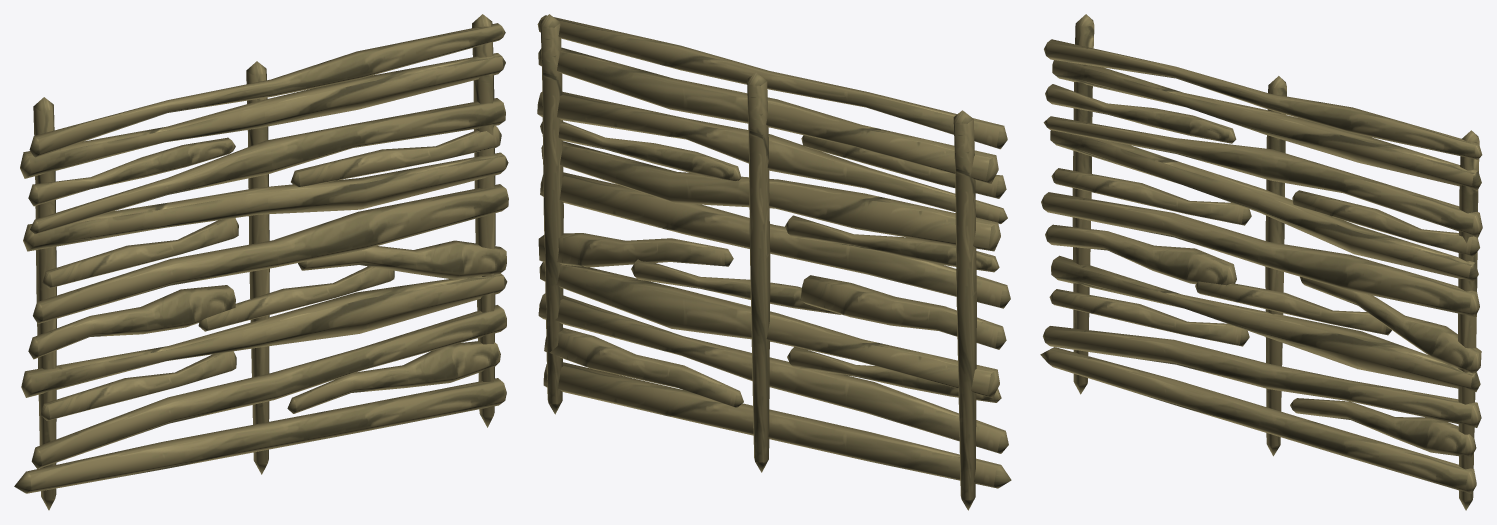
File: Wall.FBX
3 views of the same model, side by side, from view 1: azimuth 30°, elevation 25°; view 2: azimuth 150°, elevation 25°; view 3: azimuth 330°, elevation 25° (orthographic). The views are drawn at different scales.
Parts seen in each view (by area): view 1: Wall; view 2: Wall; view 3: Wall.
Boxes of the visible parts, box(x1,y1,x2,y2) form: Wall: box(14, 14, 508, 510); Wall: box(537, 14, 1011, 510); Wall: box(1040, 14, 1482, 510).
Bounding box in the file's own units: 6.39 × 5.33 × 0.6812.
Materials: 1 (1 with a texture image).
